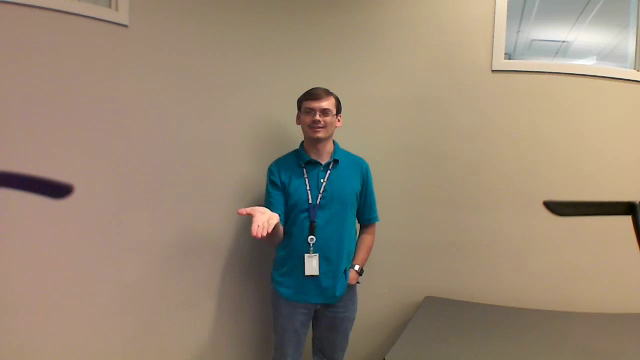land: (231, 202, 284, 246)
